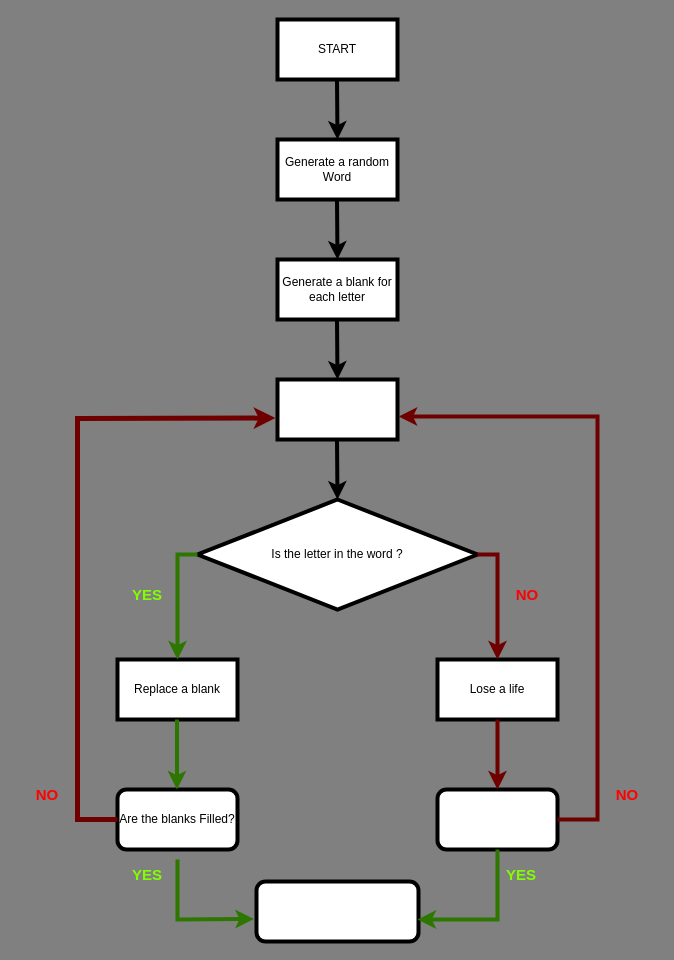
This 674x960 diagram has some shape labels left out. Each missing label, with the box of its shape:
Ask the user: guess a letter: (275, 377, 399, 441)
GAME OVER: (254, 879, 420, 943)
Run out of lives?: (435, 787, 559, 851)
